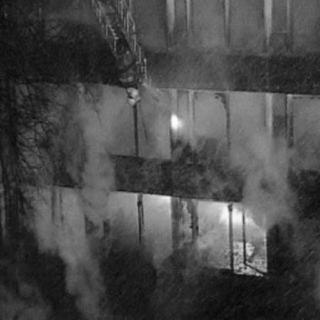Fire: (104, 191, 282, 281)
other: (164, 108, 192, 140)
